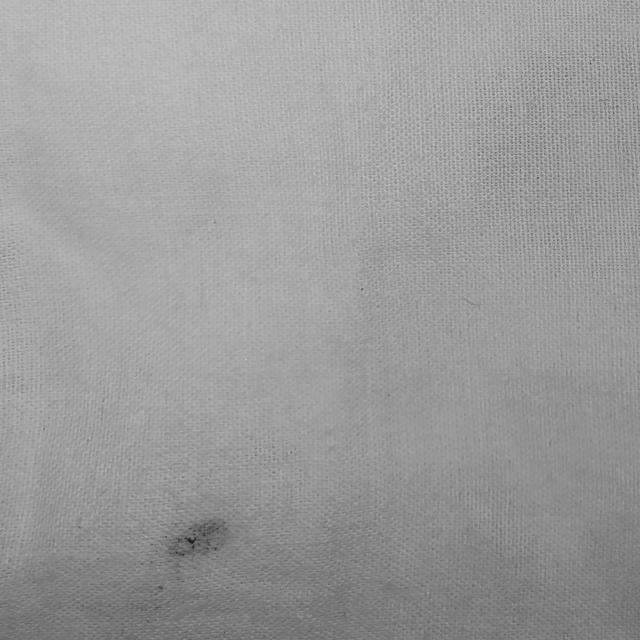Stain: (168, 520, 227, 557)
